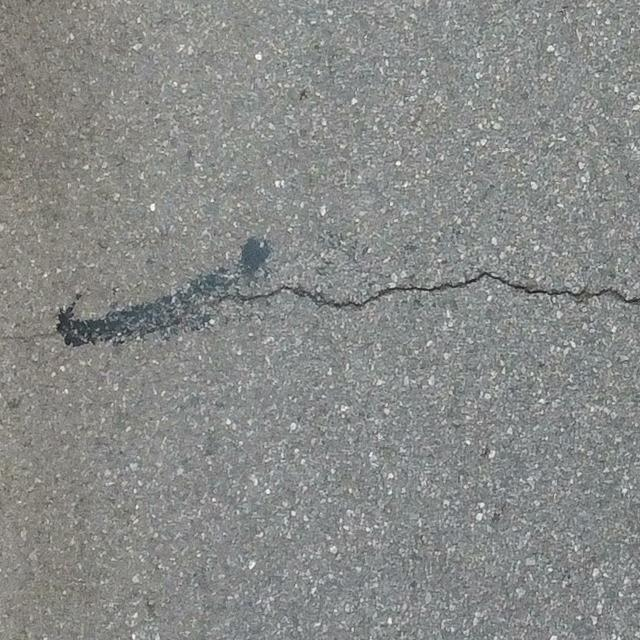TransverseCrack: (12, 271, 640, 347)
